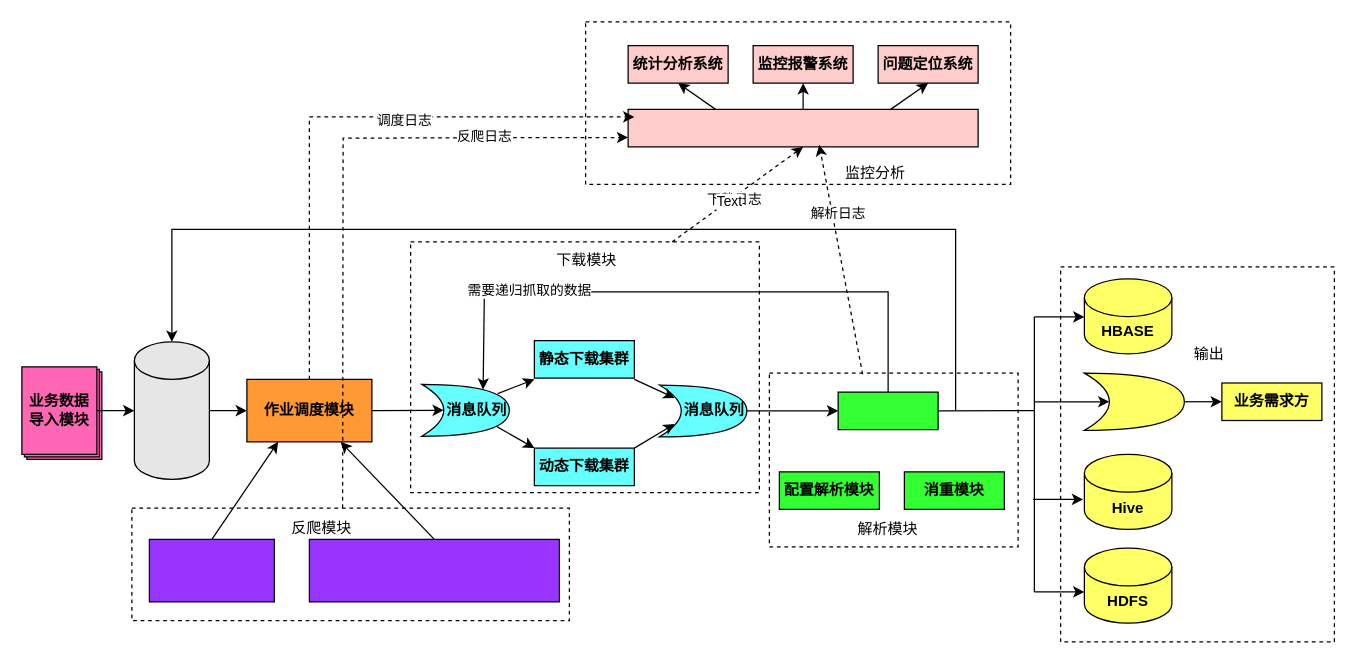
Some shapes in this 1356 by 664 pixel diagram are drawn without their labels. Each missing label, with the centre of its shape:
下游消息队 列: [1133,401]
代理IP管理模块: [211,570]
日志系统: [802,127]
登录模块 （ login->interceptor->DB ）: [433,570]
解析集群: [887,410]
链接库: [171,410]
